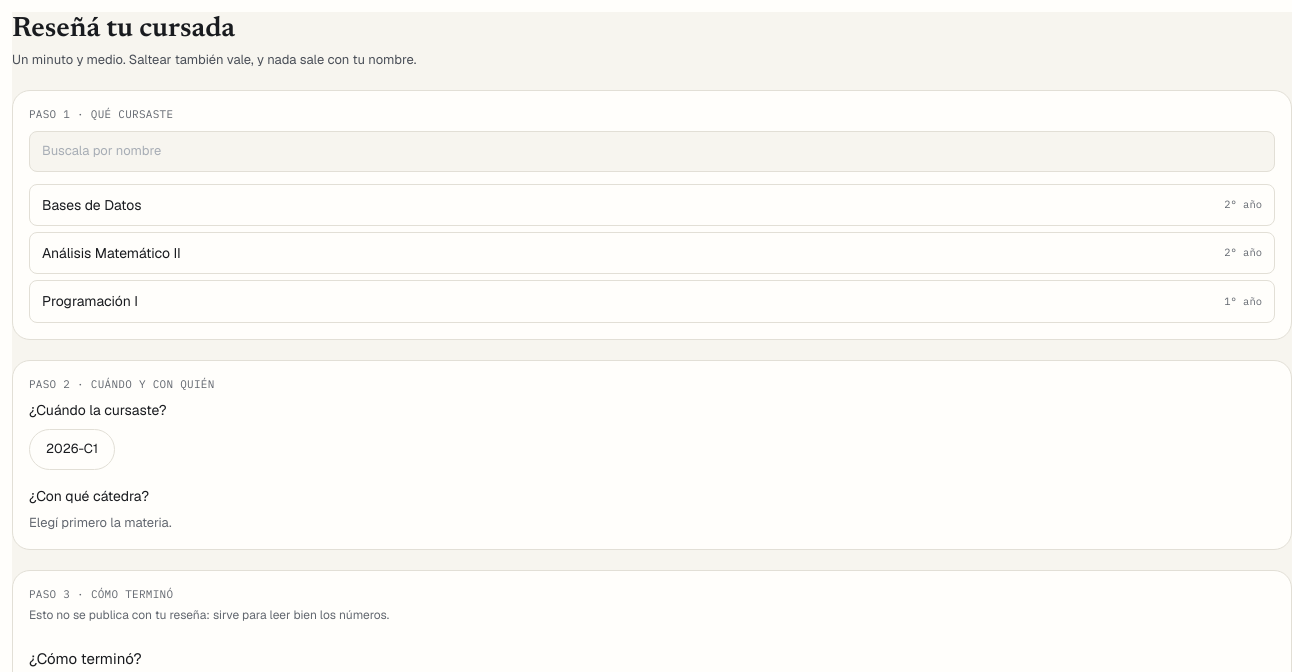
Test: SC-015: lo que no muestra nunca › no muestra puntaje, promedio ni estrellas en ningún paso
Step 1. Click the button "Análisis Matemático II 2° año" → coordinates (111, 253), box [29,232,1275,274]
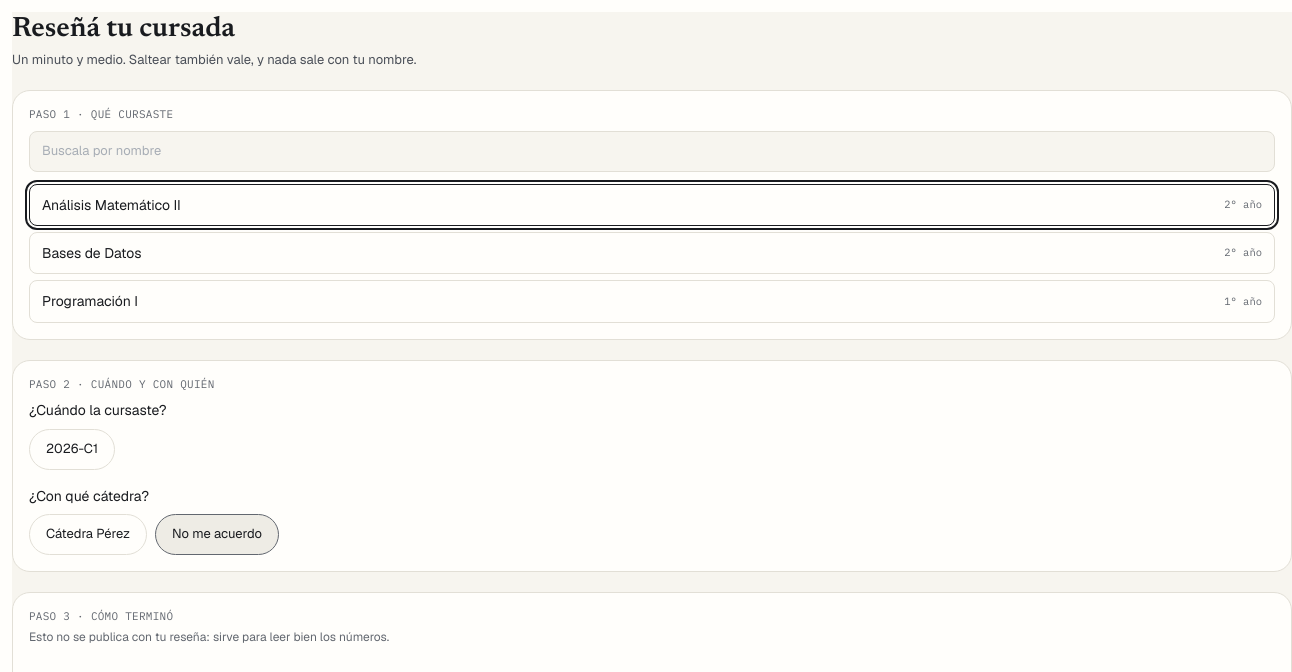
Expected: the button "No me acuerdo" is shown, [155,514,279,555]
